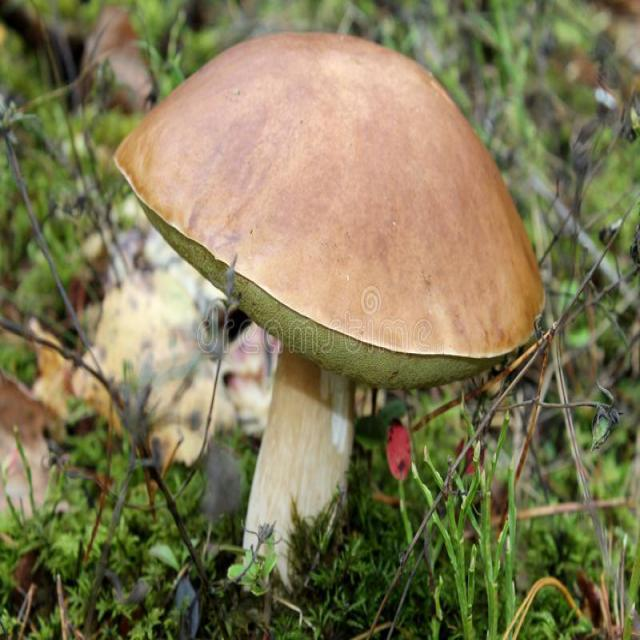Boletus: (114, 29, 546, 586)
